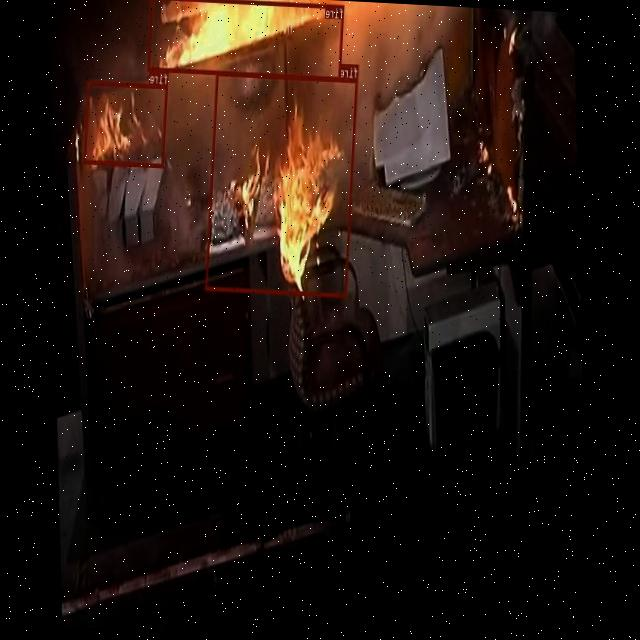fire: (205, 71, 358, 298), (147, 0, 344, 80), (84, 80, 168, 168)
